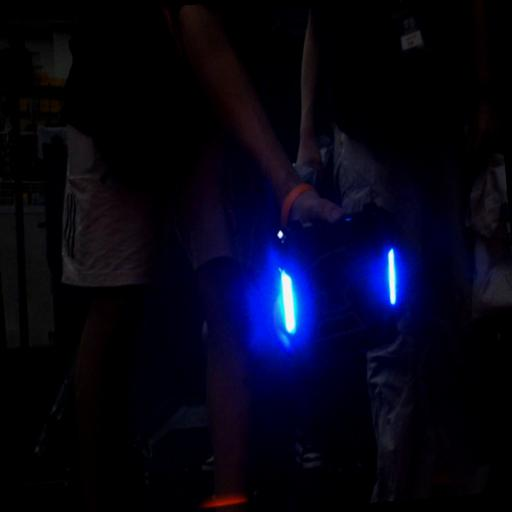target: (276, 222, 405, 364)
